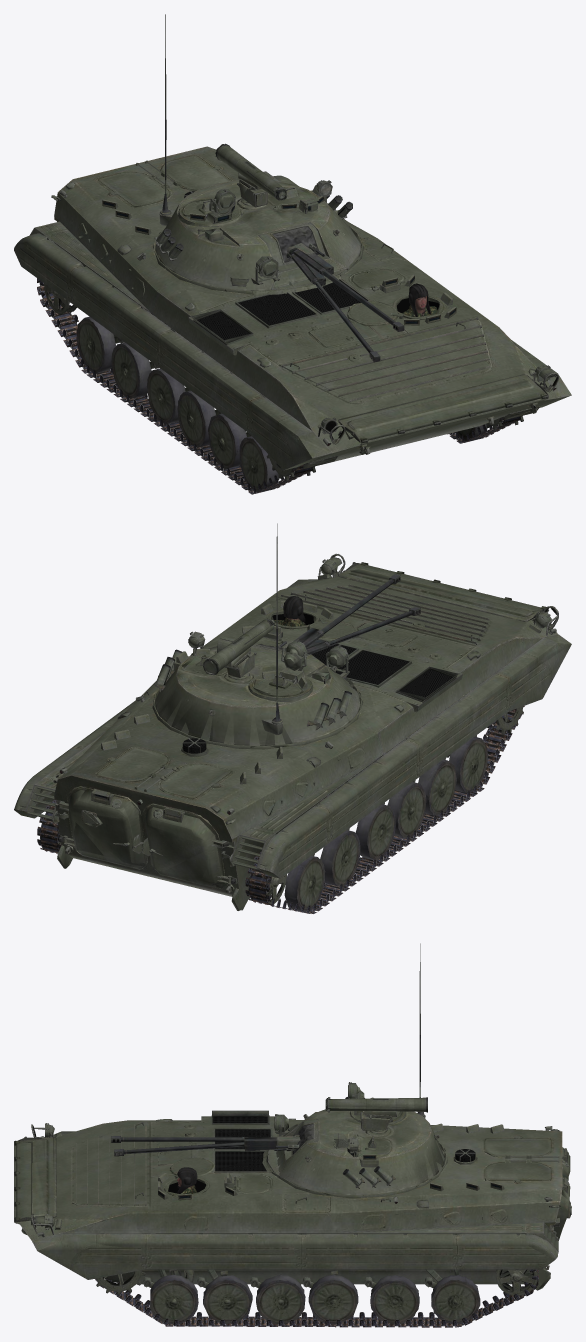
The model's file is bmp2.glb.
3 views of the same model, one above another, from view 1: azimuth 30°, elevation 25°; view 2: azimuth 150°, elevation 25°; view 3: azimuth 270°, elevation 25° (orthographic). The views are drawn at different scales.
Parts seen in each view (by area): view 1: Object_10, Object_9, Object_11, Object_8, Object_12, Object_7, Object_3, Object_2, Object_5, Object_4, Object_6; view 2: Object_10, Object_9, Object_11, Object_8, Object_12, Object_3, Object_7, Object_2, Object_5, Object_4; view 3: Object_9, Object_8, Object_10, Object_11, Object_12, Object_7, Object_3, Object_2, Object_4.
Part boxes in pixels (x1,y1,x2,y2): Object_10: [51, 146, 558, 468]; Object_9: [14, 74, 571, 491]; Object_11: [77, 14, 487, 490]; Object_8: [39, 145, 571, 469]; Object_12: [14, 171, 567, 480]; Object_7: [184, 191, 367, 339]; Object_3: [37, 287, 492, 494]; Object_2: [39, 280, 515, 493]; Object_5: [40, 281, 515, 493]; Object_4: [402, 283, 437, 316]; Object_6: [37, 278, 520, 493]; Object_10: [51, 554, 558, 910]; Object_9: [14, 542, 571, 912]; Object_11: [153, 523, 486, 911]; Object_8: [19, 553, 558, 898]; Object_12: [14, 579, 571, 903]; Object_3: [37, 684, 524, 913]; Object_7: [182, 639, 452, 753]; Object_2: [40, 724, 508, 913]; Object_5: [40, 725, 509, 911]; Object_4: [274, 596, 305, 626]; Object_9: [16, 952, 570, 1324]; Object_8: [14, 1097, 571, 1322]; Object_10: [14, 1110, 571, 1290]; Object_11: [111, 944, 480, 1324]; Object_12: [32, 1131, 558, 1295]; Object_7: [213, 1116, 475, 1171]; Object_3: [95, 1269, 538, 1327]; Object_2: [97, 1269, 538, 1326]; Object_4: [177, 1167, 197, 1194].
Bounding box in the file's own units: 3.14 × 4.16 × 6.75.
8 materials, 8 textured.
